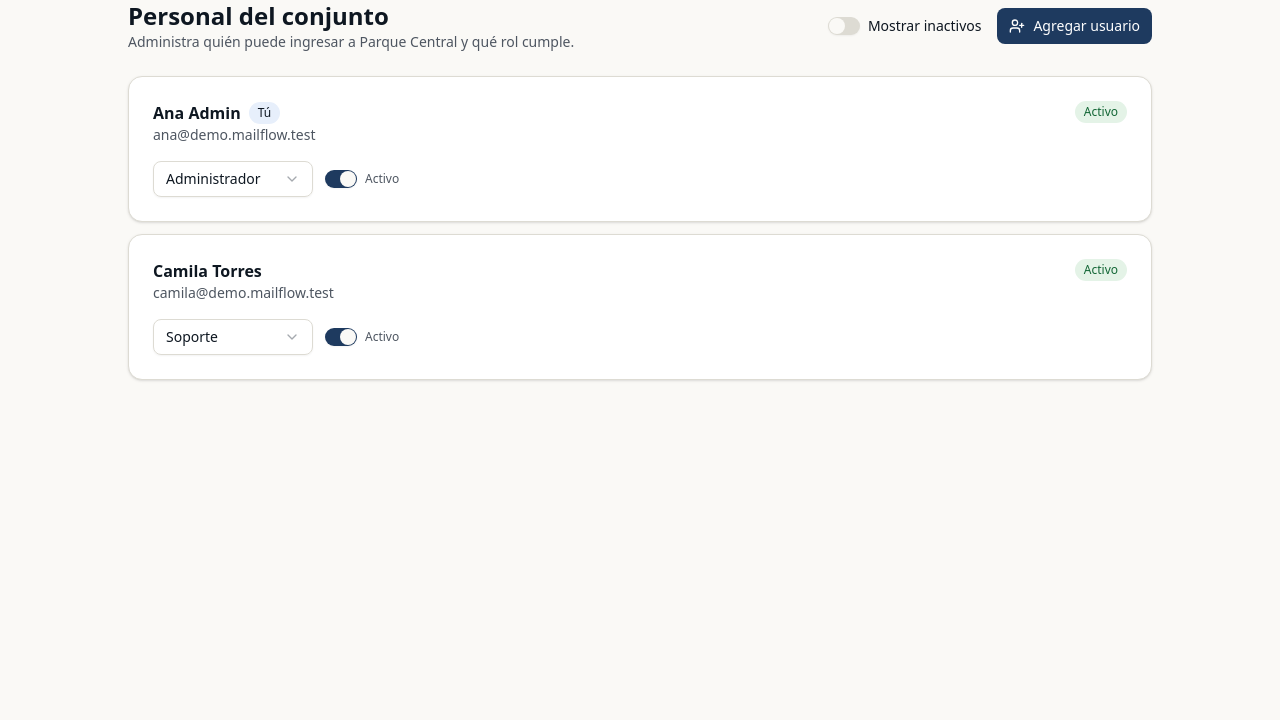
it: UsuariosPage · Agregar usuario › al cerrar el diálogo con Escape o Cancelar el foco vuelve al botón «Agregar usuario»
Expected: the text "Camila Torres" is shown, left=153, top=259, right=262, bottom=283
Step 1. Click the button "Agregar usuario" → (1075, 26), box left=997, top=8, right=1152, bottom=44
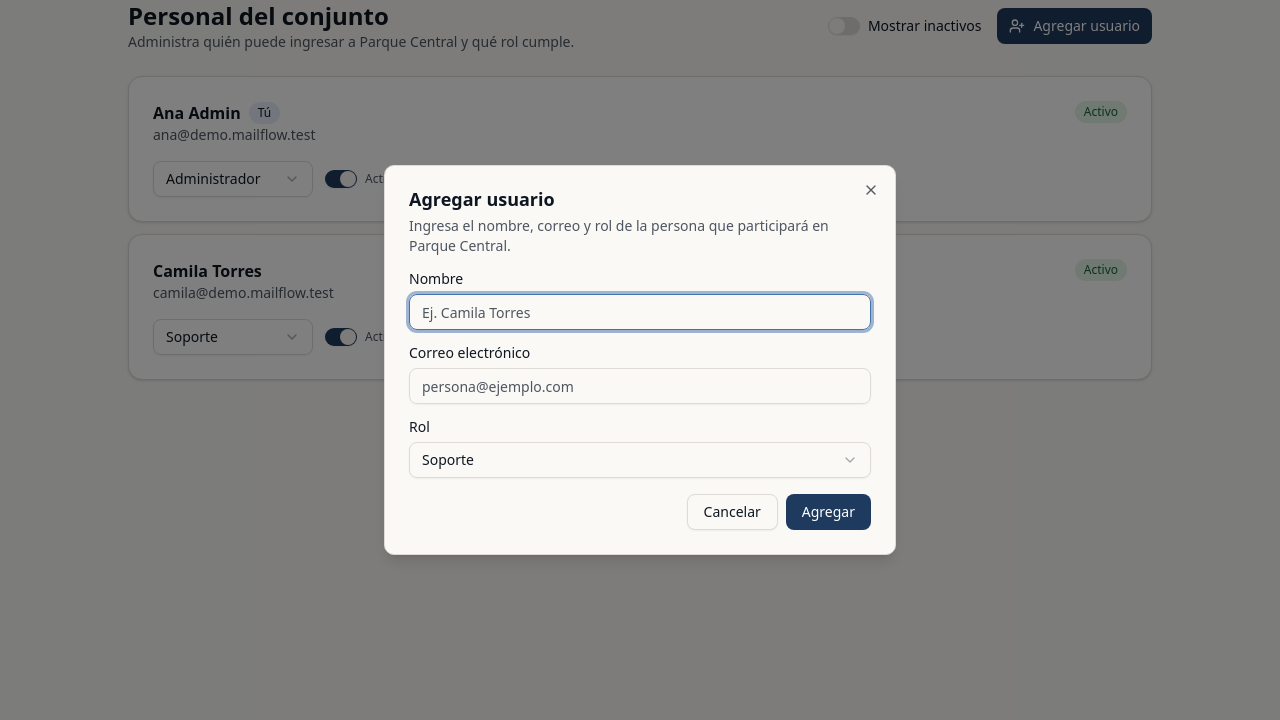
Result: the dialog is shown at left=384, top=165, right=896, bottom=555
Step 2. Press Escape
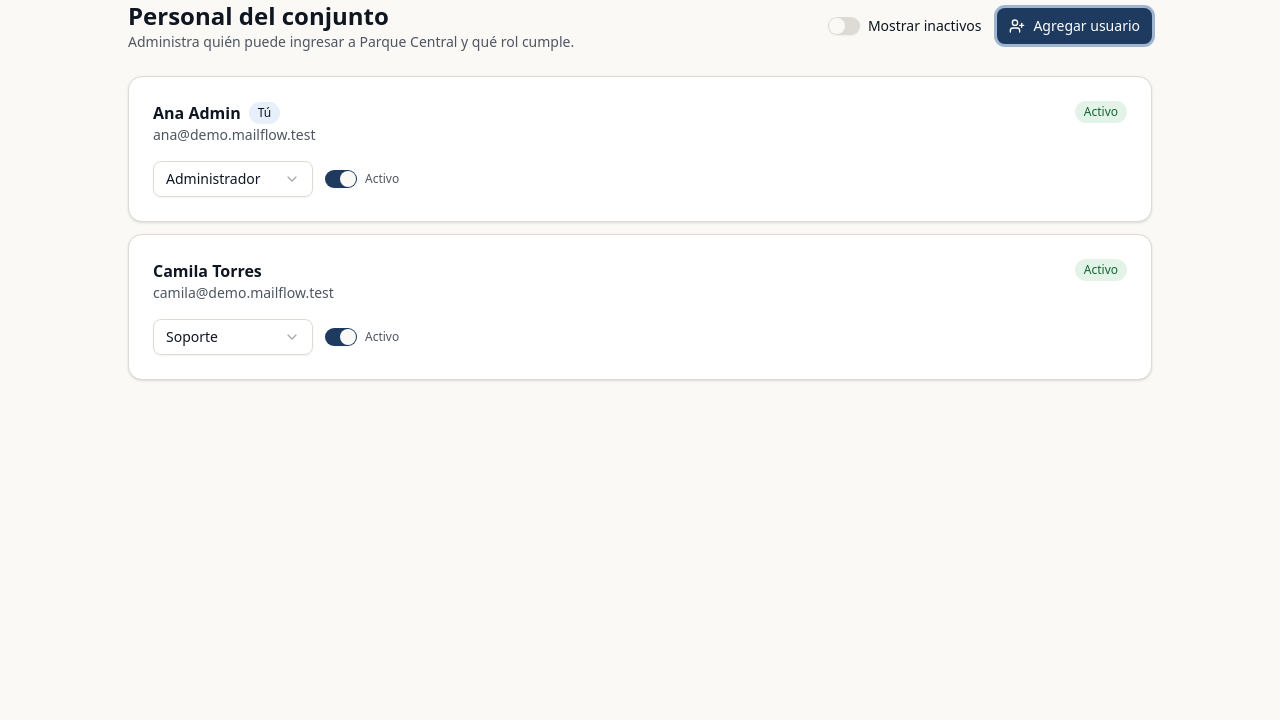
Result: the dialog is gone
Step 3. Click the button "Agregar usuario" → (1075, 26), box left=997, top=8, right=1152, bottom=44
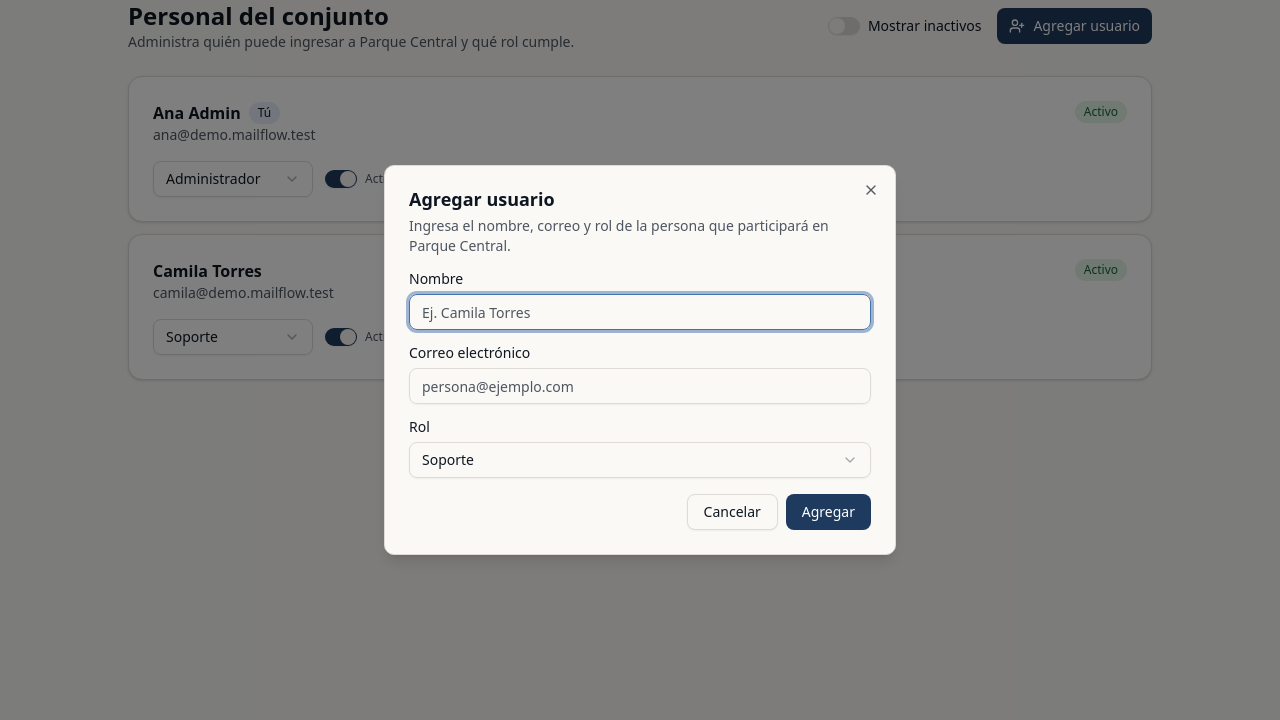
Step 4. Click the button "Cancelar" → (732, 512), box left=687, top=494, right=778, bottom=530
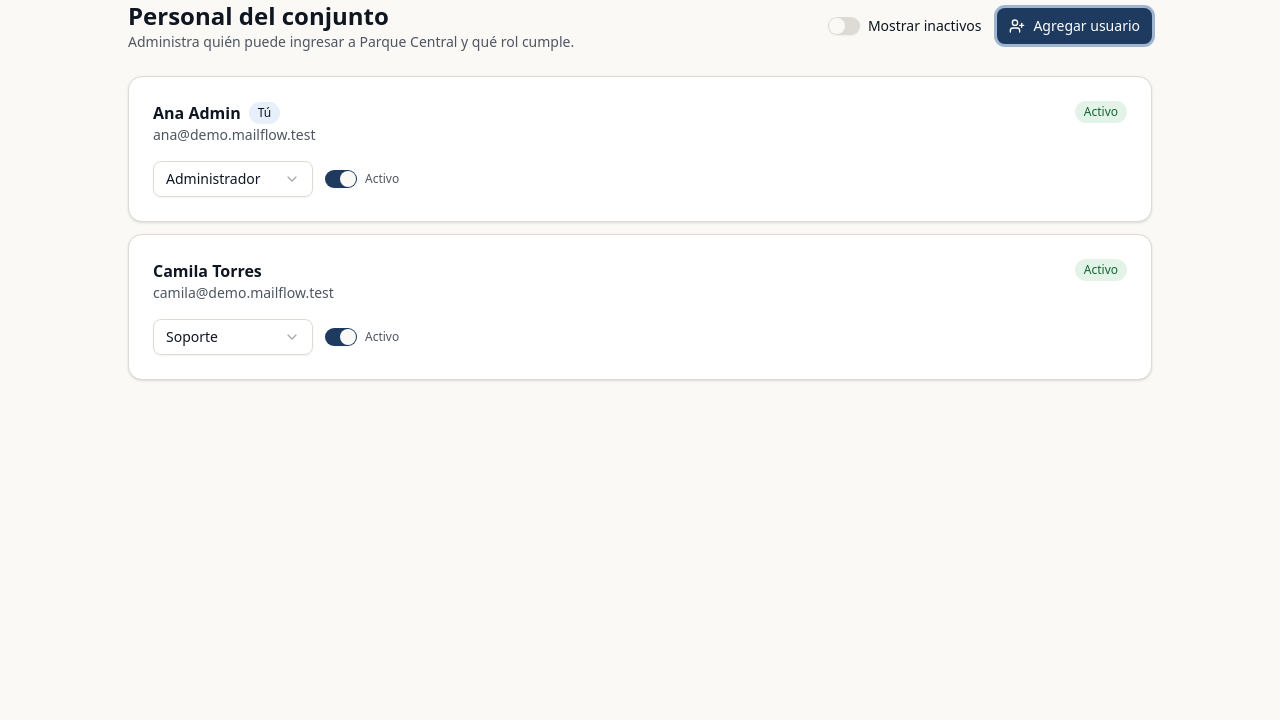
Result: the dialog is gone
